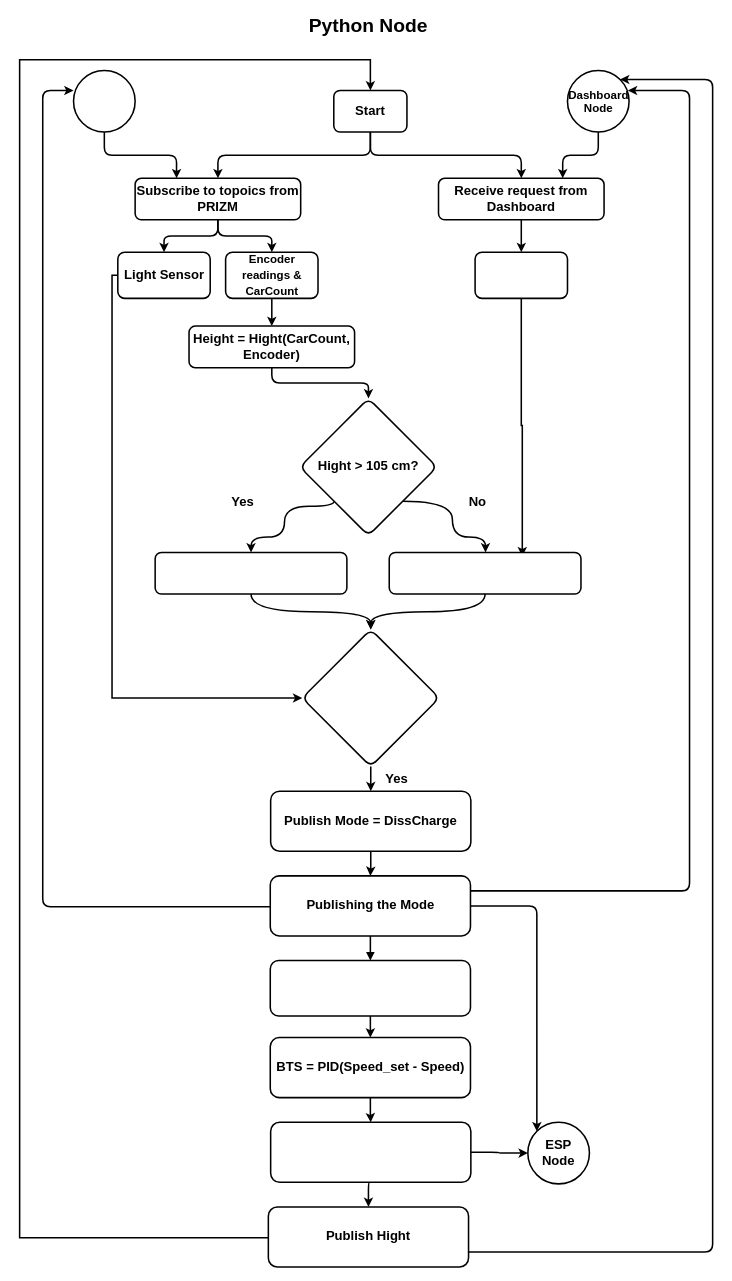
Image size: 732x1281. Some labels were removed from this diagram. Each missing label, with the box of its shape:
Is Night?: (301, 628, 440, 767)
Manual Mode: (474, 251, 568, 299)
PRIZM Node: (72, 69, 136, 132)
Publish Mode = Manual Mode: (388, 551, 581, 594)
Publish Mode = MaxCharge: (154, 551, 347, 594)
Publish PID Output to PWM Driver (BTS): (270, 1121, 471, 1183)
Speed = (ΔEncoder / Δt) * (2π * r / CountsPerRev): (269, 959, 471, 1016)
